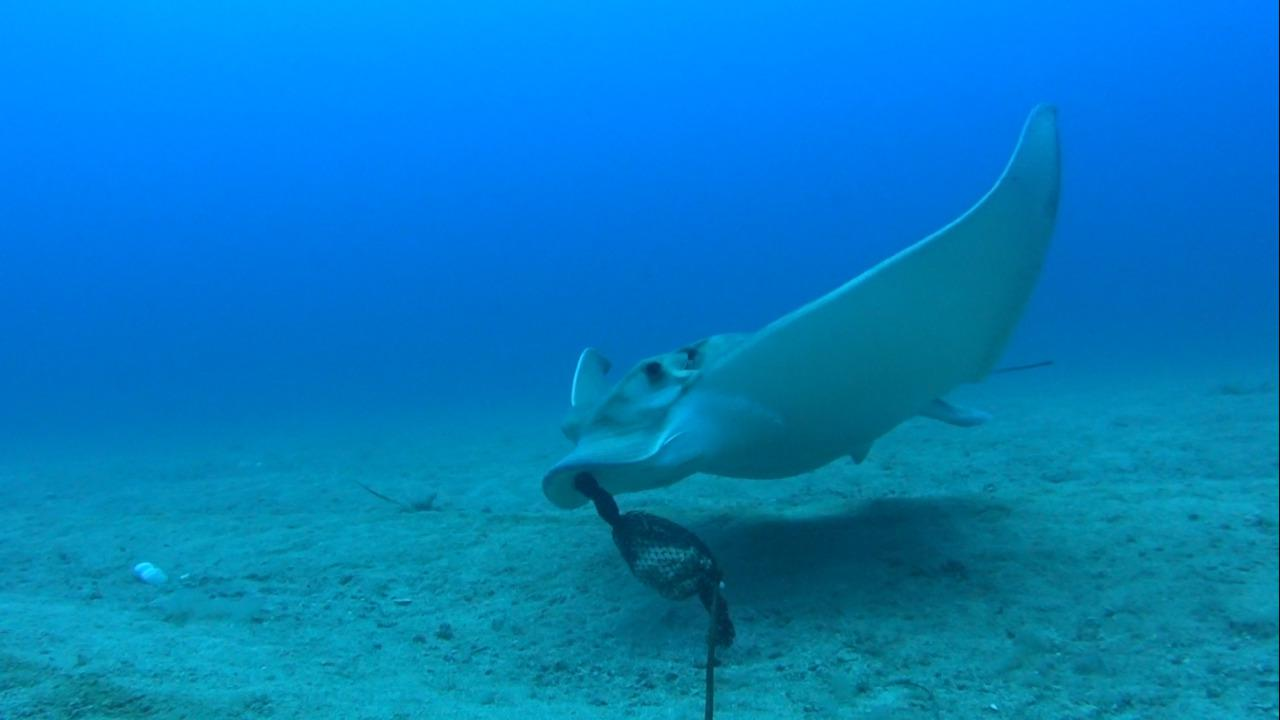myliobatis: (542, 97, 1067, 514)
